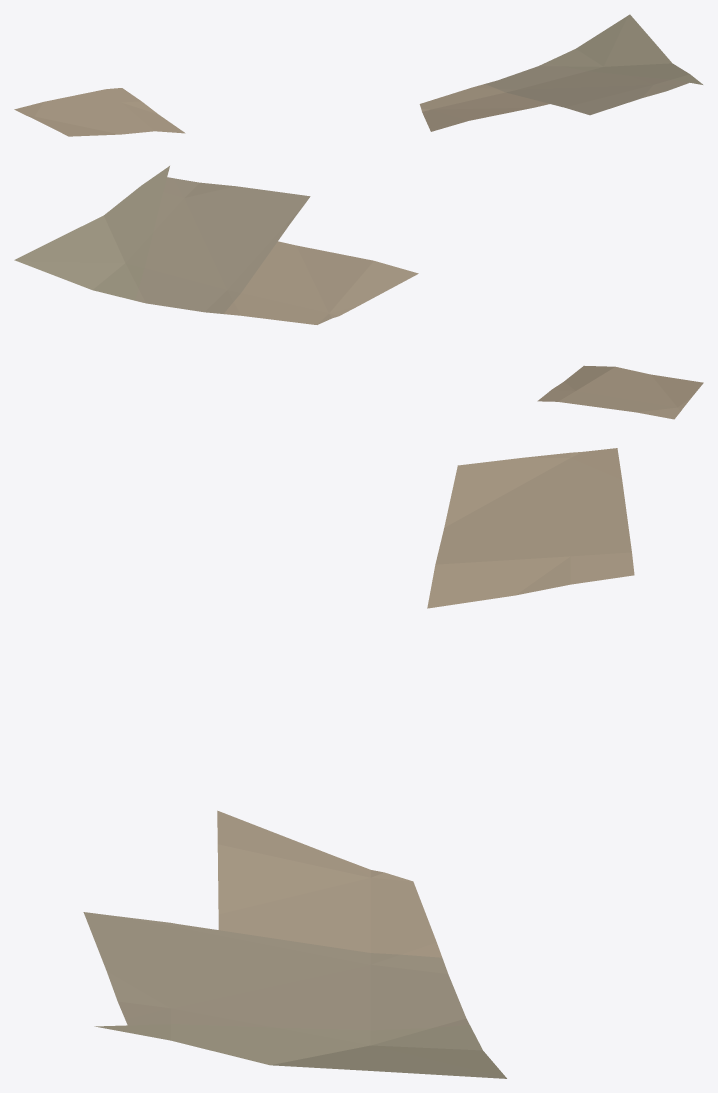
Rendered from farm_-4_-9_soil.glb.
3 renders of one model, top to bottom at view 1: azimuth 30°, elevation 25°; view 2: azimuth 150°, elevation 25°; view 3: azimuth 270°, elevation 25°, orthographic. The views are drawn at different scales.
Visible parts, largest first — view 1: geometry_0; view 2: geometry_0; view 3: geometry_0.
Part boxes in pixels (left/top/right/bottom): geometry_0: left=14, top=14, right=702, bottom=136; geometry_0: left=14, top=166, right=703, bottom=419; geometry_0: left=83, top=448, right=634, bottom=1078.
Size of the model in its own units: 544 by 42.18 by 221.
